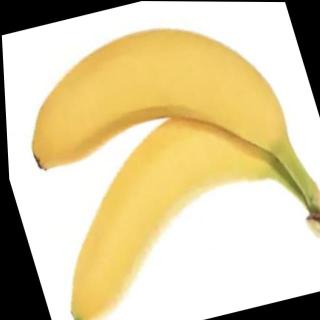banana: (14, 84, 312, 320), (1, 2, 295, 207)
